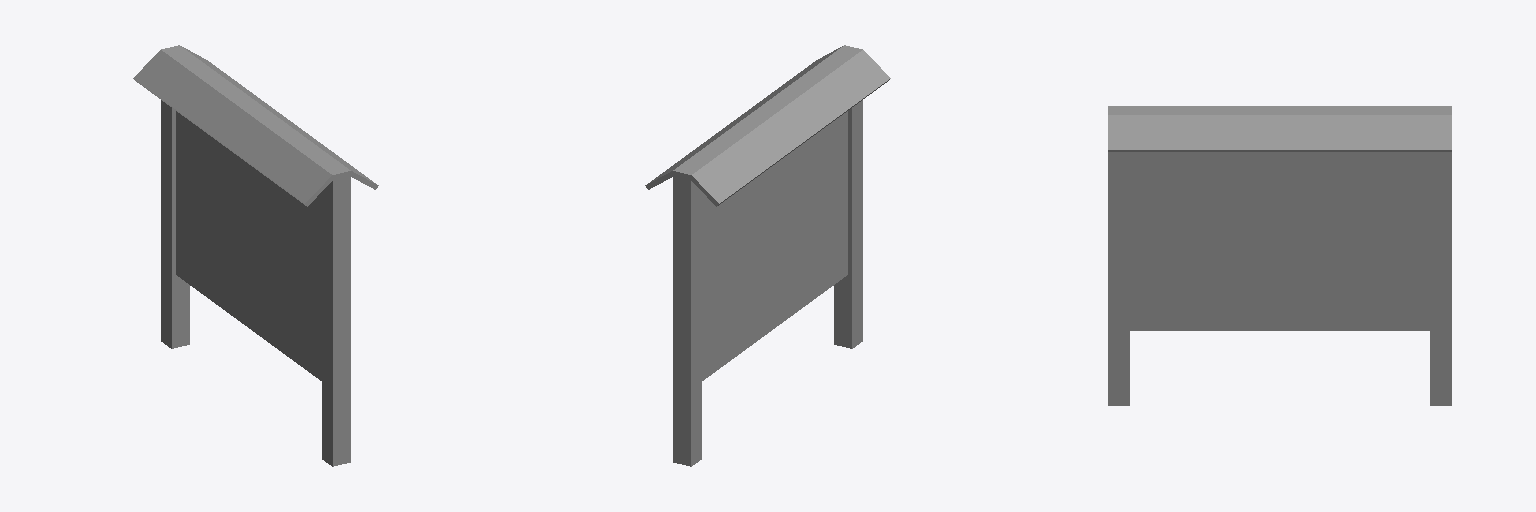
File: parkSign.obj
3 views of the same model, side by side, from view 1: azimuth 30°, elevation 25°; view 2: azimuth 150°, elevation 25°; view 3: azimuth 270°, elevation 25° (orthographic).
Visible parts, largest first — view 1: Leg 1.001_Cube.001; view 2: Leg 1.001_Cube.001; view 3: Leg 1.001_Cube.001.
Boxes of the visible parts, <box> form: Leg 1.001_Cube.001: <box>133,45,378,466</box>; Leg 1.001_Cube.001: <box>645,45,890,466</box>; Leg 1.001_Cube.001: <box>1108,106,1451,405</box>.
Size of the model in its own units: 80 by 300 by 320.